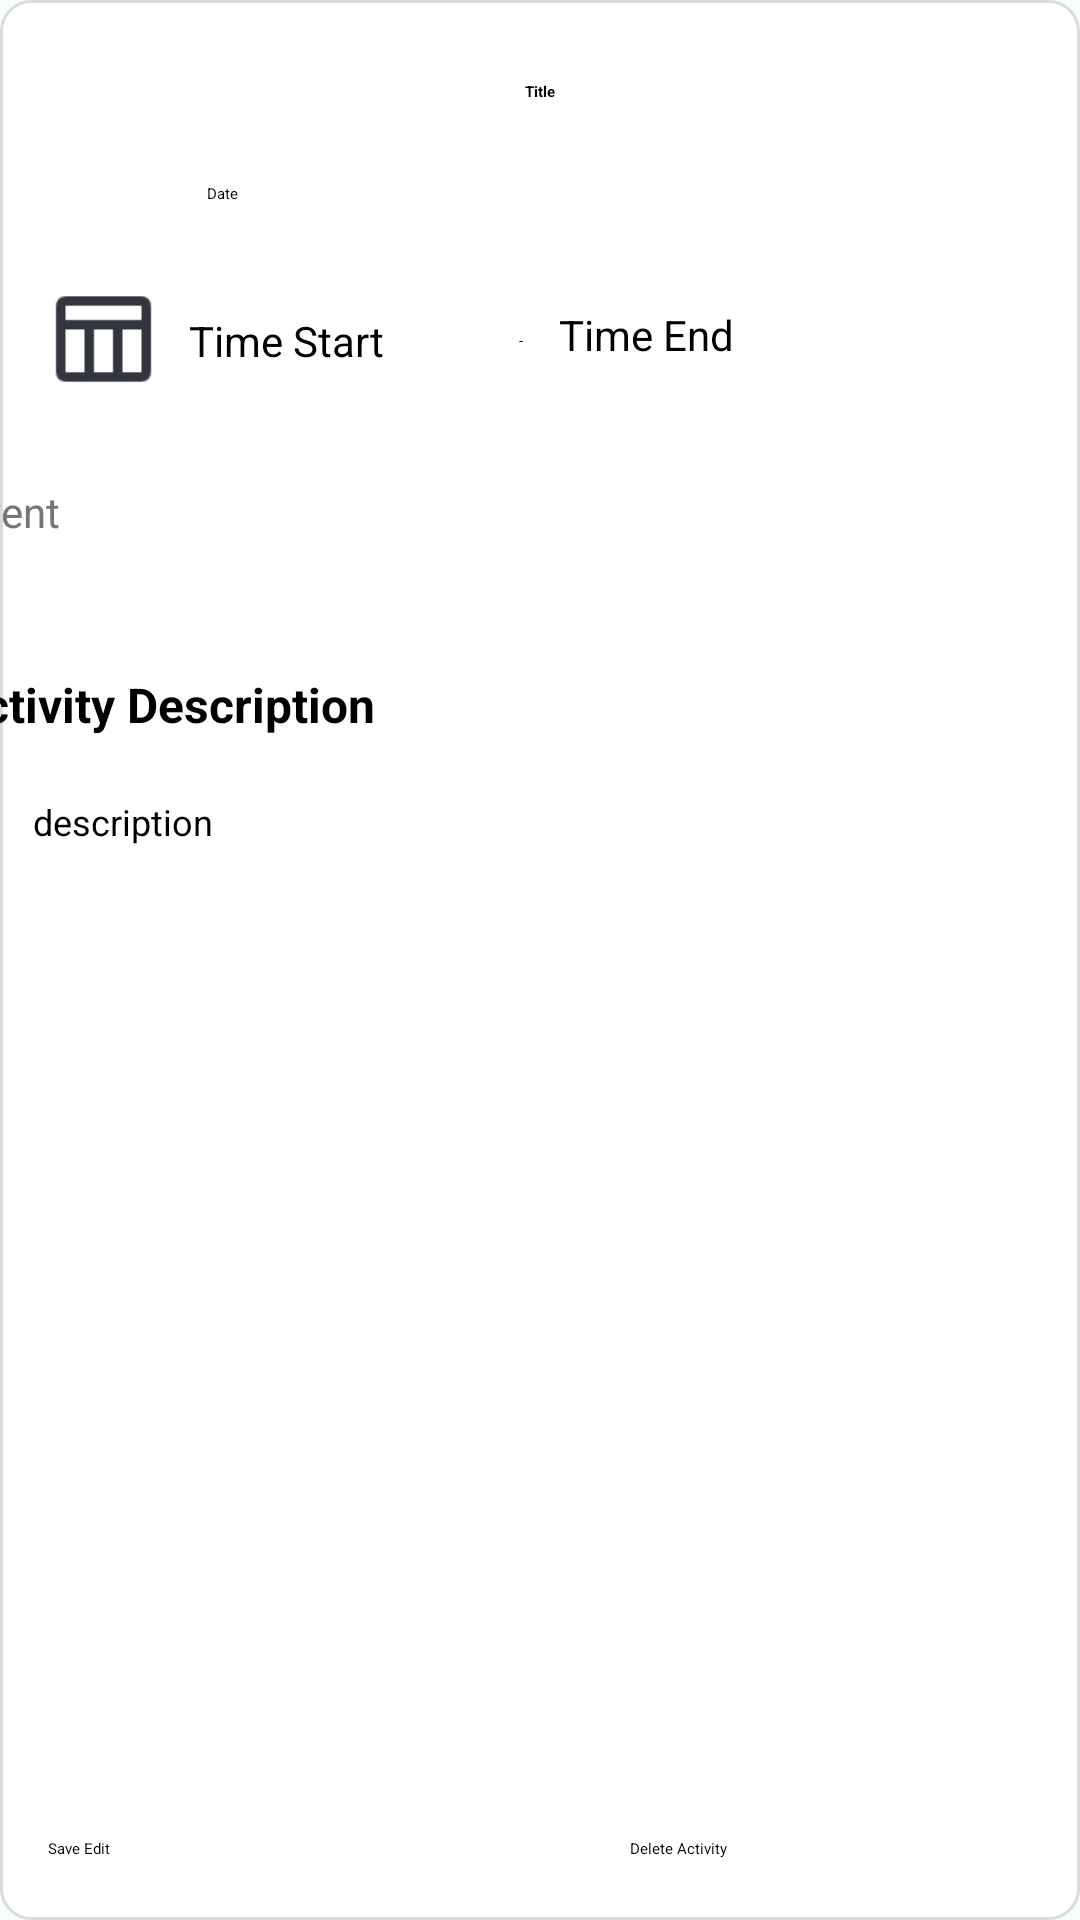

Icons on this 1080px x 1920px Android screen, each with its box as (x1, y1, x2, y2):
table: (55, 296, 152, 382)
